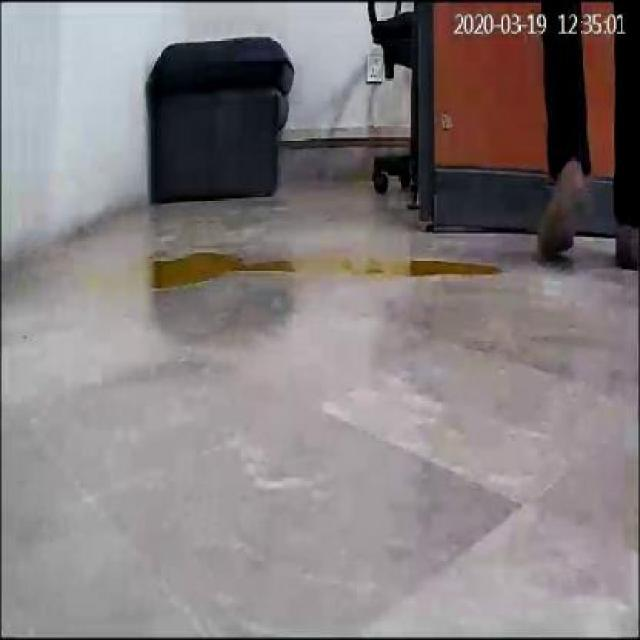spill: (99, 243, 507, 303)
